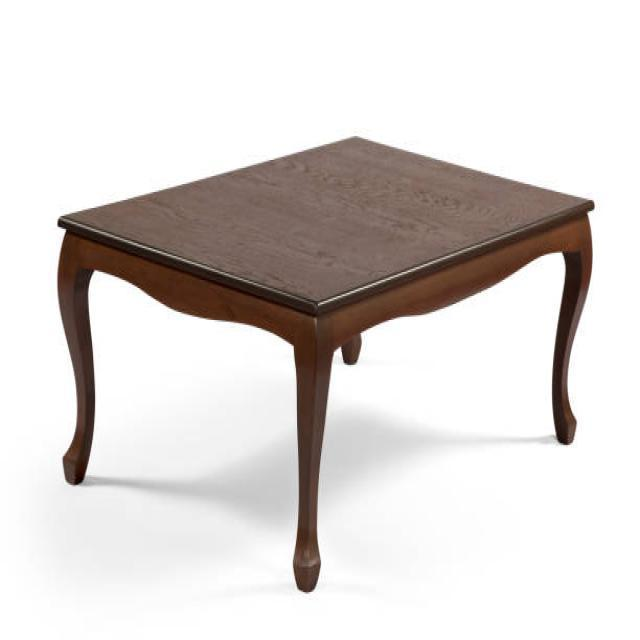table: (55, 131, 595, 592)
